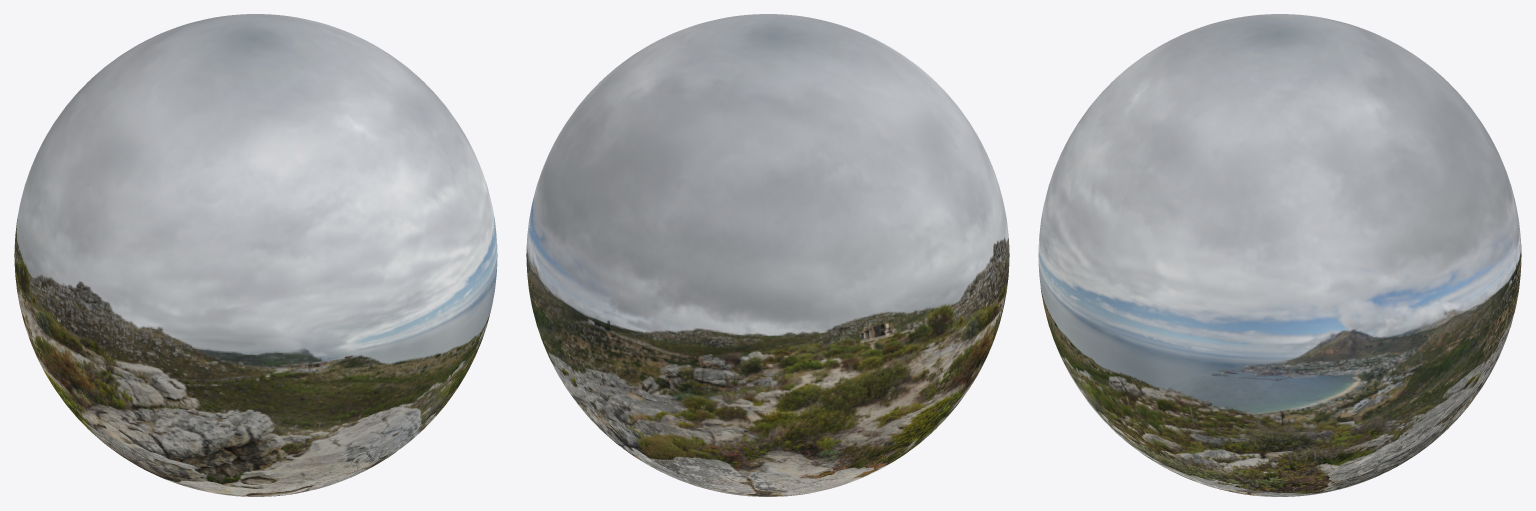
The picture shows the model from 3 angles, left to right: view 1: azimuth 30°, elevation 25°; view 2: azimuth 150°, elevation 25°; view 3: azimuth 270°, elevation 25°; orthographic projection.
Visible parts, largest first — view 1: exterior-panorama.sphere; view 2: exterior-panorama.sphere; view 3: exterior-panorama.sphere.
Part boxes in pixels (left/top/right/bottom): exterior-panorama.sphere: left=14, top=14, right=497, bottom=496; exterior-panorama.sphere: left=526, top=14, right=1009, bottom=496; exterior-panorama.sphere: left=1038, top=14, right=1521, bottom=496.
Size of the model in its own units: 80 by 80 by 80.
23 materials, 12 textured.
